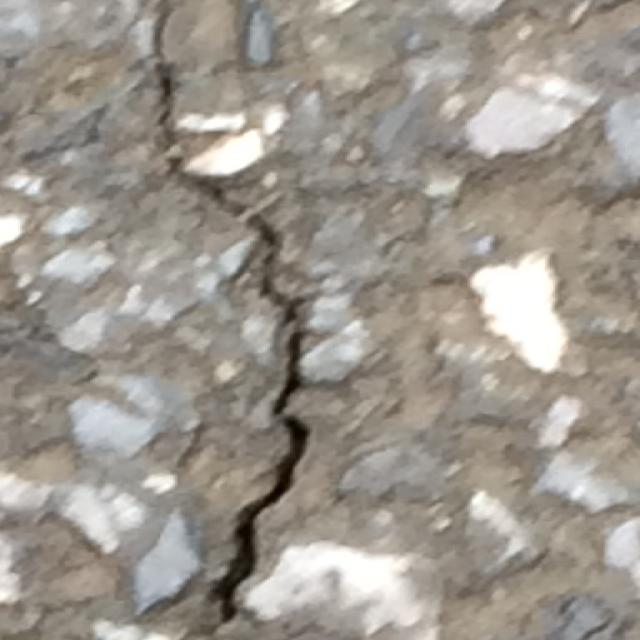Longitudinal: (150, 4, 310, 632)
